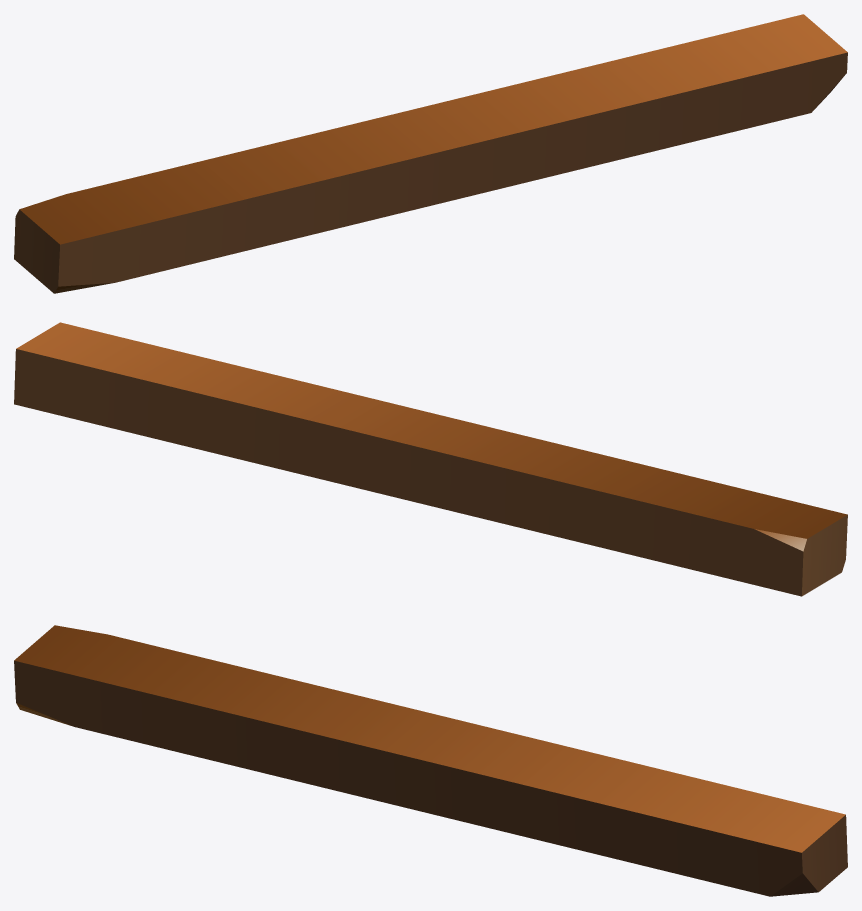
File: SM_HolzBalkenEinzelBroken.fbx
3 renders of one model, top to bottom at view 1: azimuth 30°, elevation 25°; view 2: azimuth 150°, elevation 25°; view 3: azimuth 330°, elevation 25°, orthographic.
Visible parts, largest first — view 1: Cube.027; view 2: Cube.027; view 3: Cube.027.
Part boxes in pixels (left/top/right/bottom): Cube.027: left=14, top=14, right=847, bottom=293; Cube.027: left=14, top=322, right=847, bottom=596; Cube.027: left=14, top=625, right=847, bottom=896.
Size of the model in its own units: 364 by 26.48 by 36.96.
